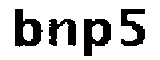5: (118, 6, 152, 53)
b: (11, 6, 43, 53)
n: (46, 14, 78, 50)
p: (80, 13, 115, 59)
